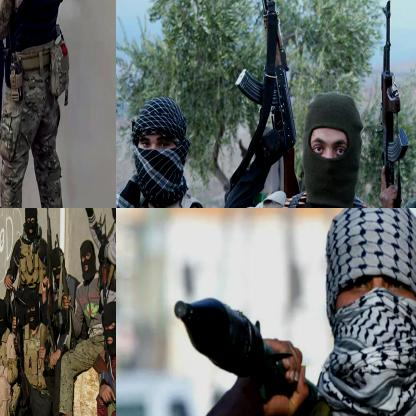rifle: (172, 292, 322, 410), (234, 0, 303, 162), (376, 0, 410, 199), (52, 234, 76, 326), (38, 208, 56, 330), (96, 212, 114, 313), (2, 248, 23, 329)
